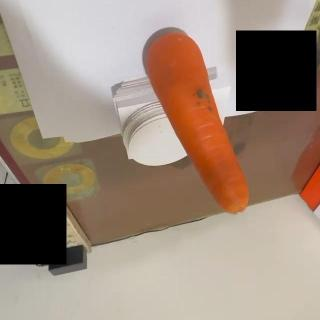carrot: (141, 31, 249, 217)
